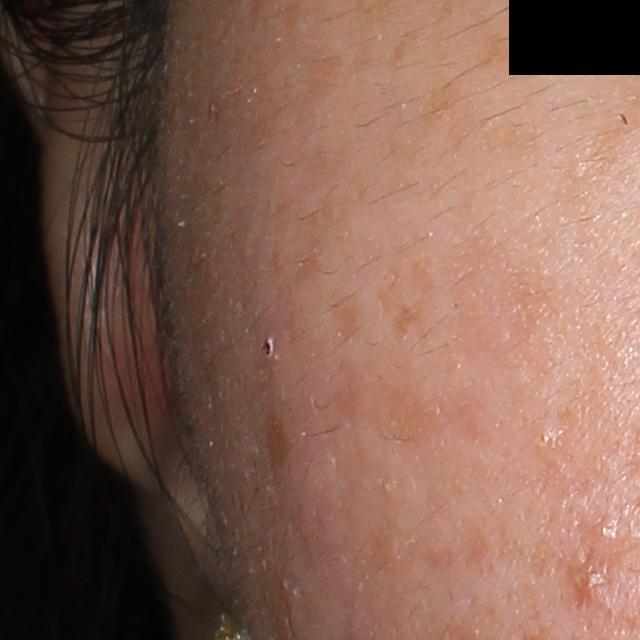comedo: (593, 515, 617, 541)
melasma: (378, 282, 422, 333), (383, 25, 427, 70), (476, 26, 524, 66), (418, 77, 458, 123), (327, 299, 363, 344)
